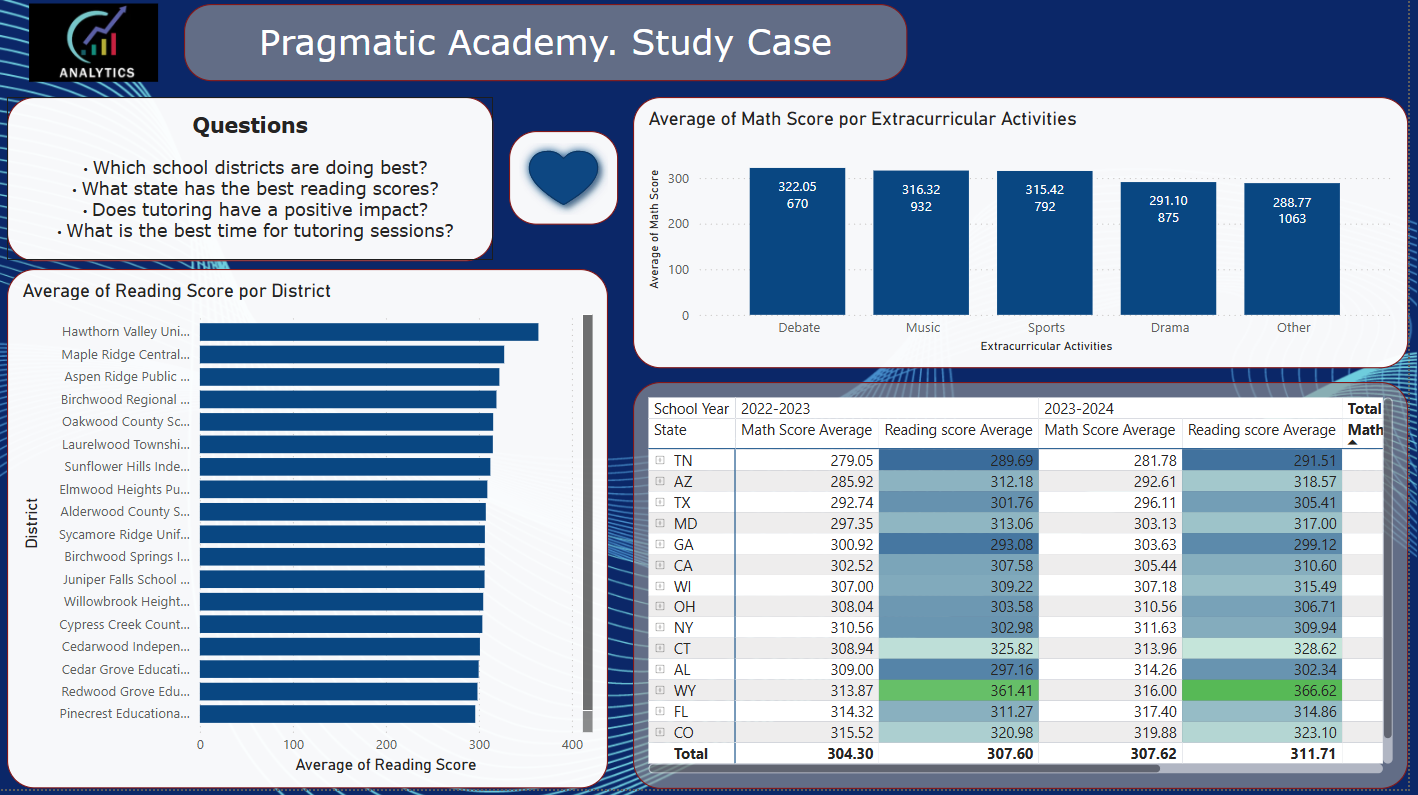

The dashboard page shown, as its layout file describes it:
{"tool":"powerbi","page":{"name":"Summary","canvas":[1280,720],"ordinal":0},"visuals":[{"type":"barChart","fields":{"Category":["Test scores.District"],"Y":["Avg(Test scores.Reading Score)"]},"box":[9.9,248.5,544.6,471.3],"z":0},{"type":"textbox","box":[9.9,92.1,440.6,148.5],"z":1000},{"type":"columnChart","fields":{"Category":["Students.Extracurricular Activities"],"Y":["Avg(Test scores.Math Score)"]},"box":[577.2,92.1,703,245.5],"z":2000},{"type":"pivotTable","fields":{"Rows":["Test scores.State Jerarquía.State","Test scores.State Jerarquía.District"],"Values":["Test scores.Math Score Average","Test scores.Reading score Average"],"Columns":["Test scores.School Year"]},"box":[577.6,350.9,702.8,369.1],"z":3000},{"type":"shape","box":[465.3,123.8,99,85.1],"z":4000},{"type":"textbox","box":[177.2,3,655.4,79.2],"z":6000},{"type":"image","box":[0,2.7,176.8,80.7],"z":6001}]}

Visuals, with their boxes in screenshot pixels (x1, y1, x2, y2), scaled from the page's 1280x720 canvas onto the 1418x795 screenshot:
barChart - Test scores.District x Avg(Test scores.Reading Score): bbox=[11, 274, 614, 794]
textbox: bbox=[11, 102, 499, 266]
columnChart - Students.Extracurricular Activities x Avg(Test scores.Math Score): bbox=[639, 102, 1417, 373]
pivotTable - Test scores.State Jerarquía.State x Test scores.State Jerarquía.District: bbox=[640, 387, 1417, 794]
shape: bbox=[515, 137, 625, 231]
textbox: bbox=[196, 3, 922, 91]
image: bbox=[0, 3, 196, 92]
